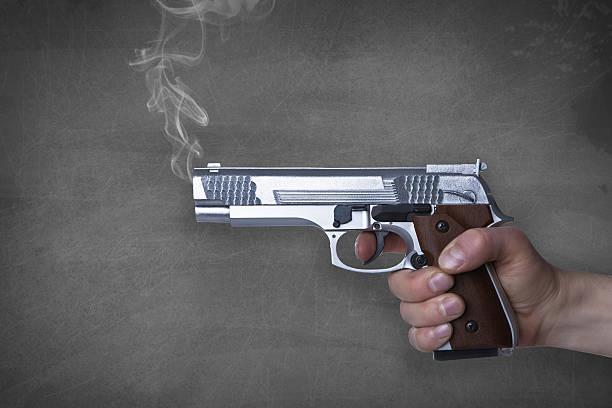weapon: (189, 159, 521, 362)
